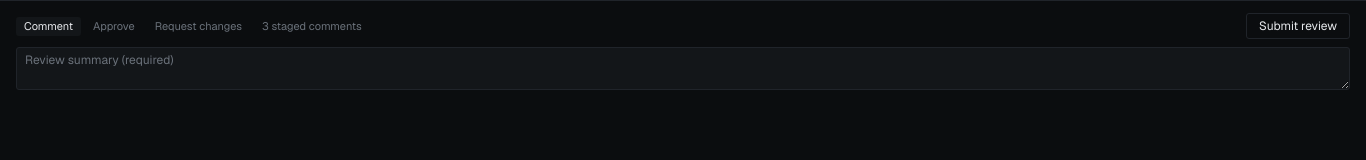
SubmitReviewBar › submits the chosen event + body and reports anchored/fallback counts
The image size is (1366, 160).
Click the radio button labelled "Request changes" at coordinates (198, 26), box [147, 17, 250, 36]
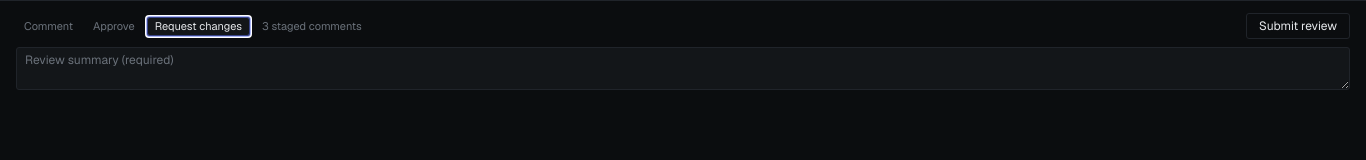
Type "Please address these" into the text box with placeholder "Review summary (required)" at coordinates (683, 68), box [16, 47, 1350, 90]
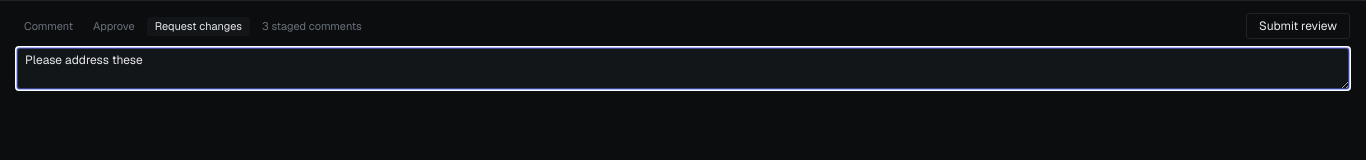
Click the button "Submit review" at coordinates (1298, 26), box [1246, 13, 1350, 39]
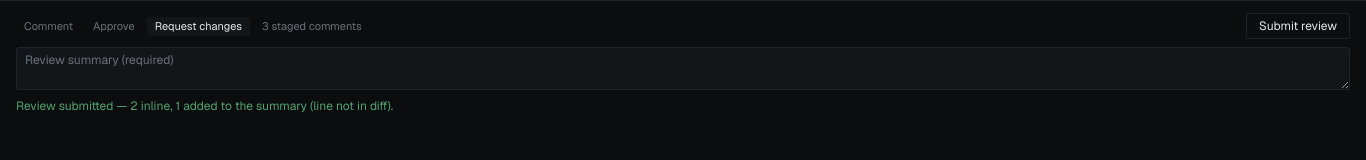
Expected: the message shows "2 inline", [16, 98, 393, 114]
Expected: the message shows "1 added to the summary", [170, 98, 391, 114]
